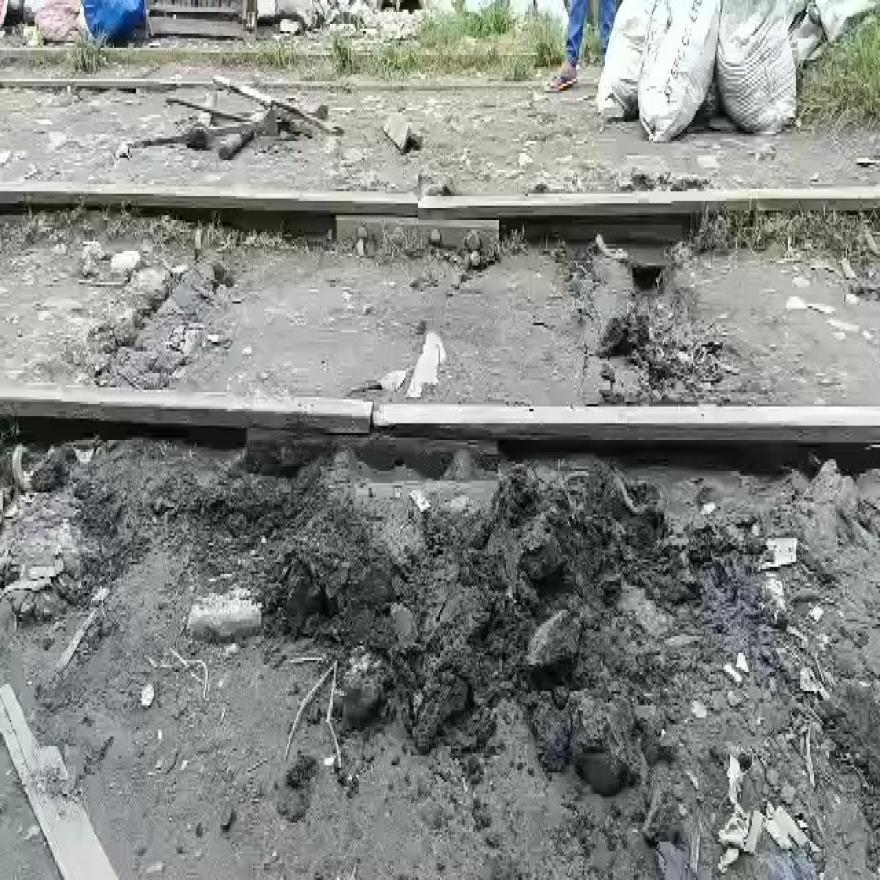railway-gap: (350, 375, 400, 465), (398, 178, 434, 232)
